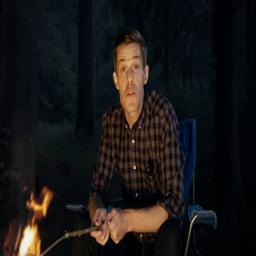fire: (4, 187, 51, 256)
